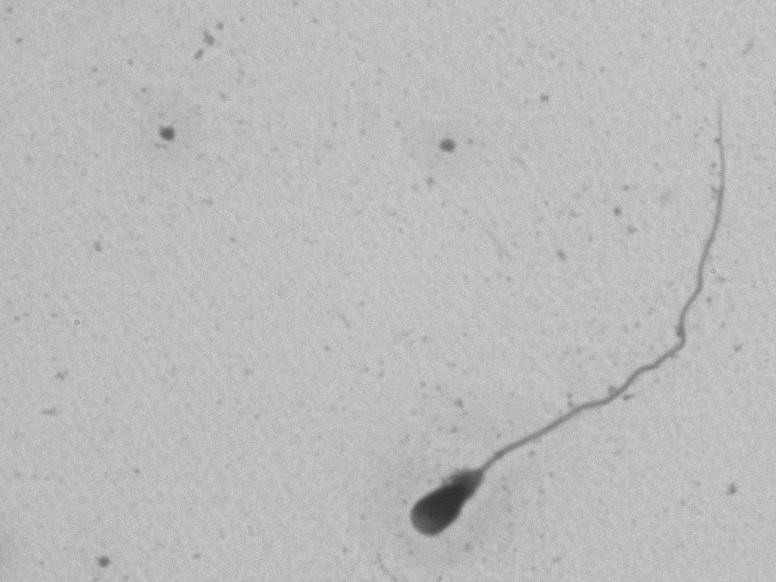Abnormal: (368, 104, 752, 563)
